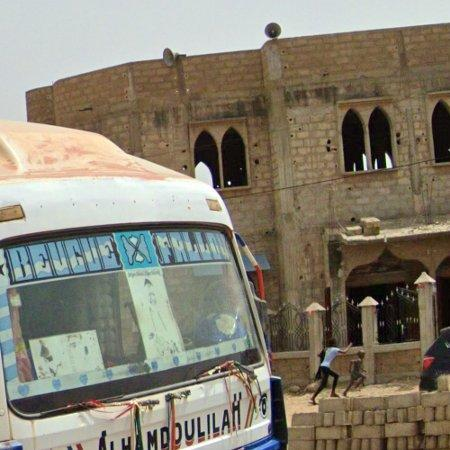buses: (0, 121, 288, 450)
